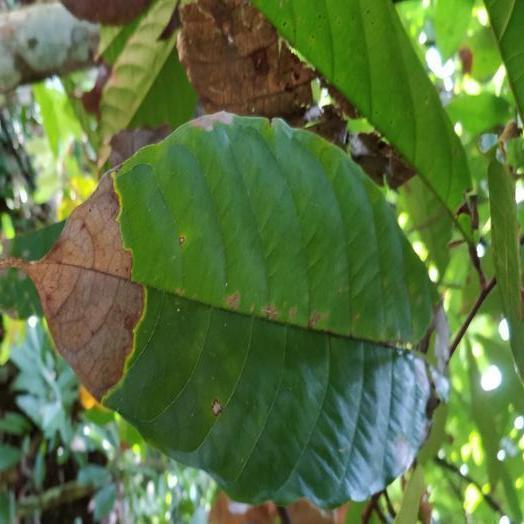Potassium: (2, 112, 439, 506)
